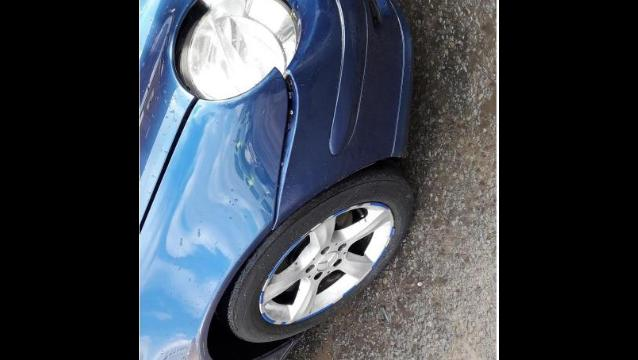Broken part: (139, 93, 200, 236), (270, 67, 300, 229), (170, 0, 208, 96)
Paint chip: (247, 178, 253, 185), (237, 141, 241, 146)
Scratch: (176, 338, 211, 360)
